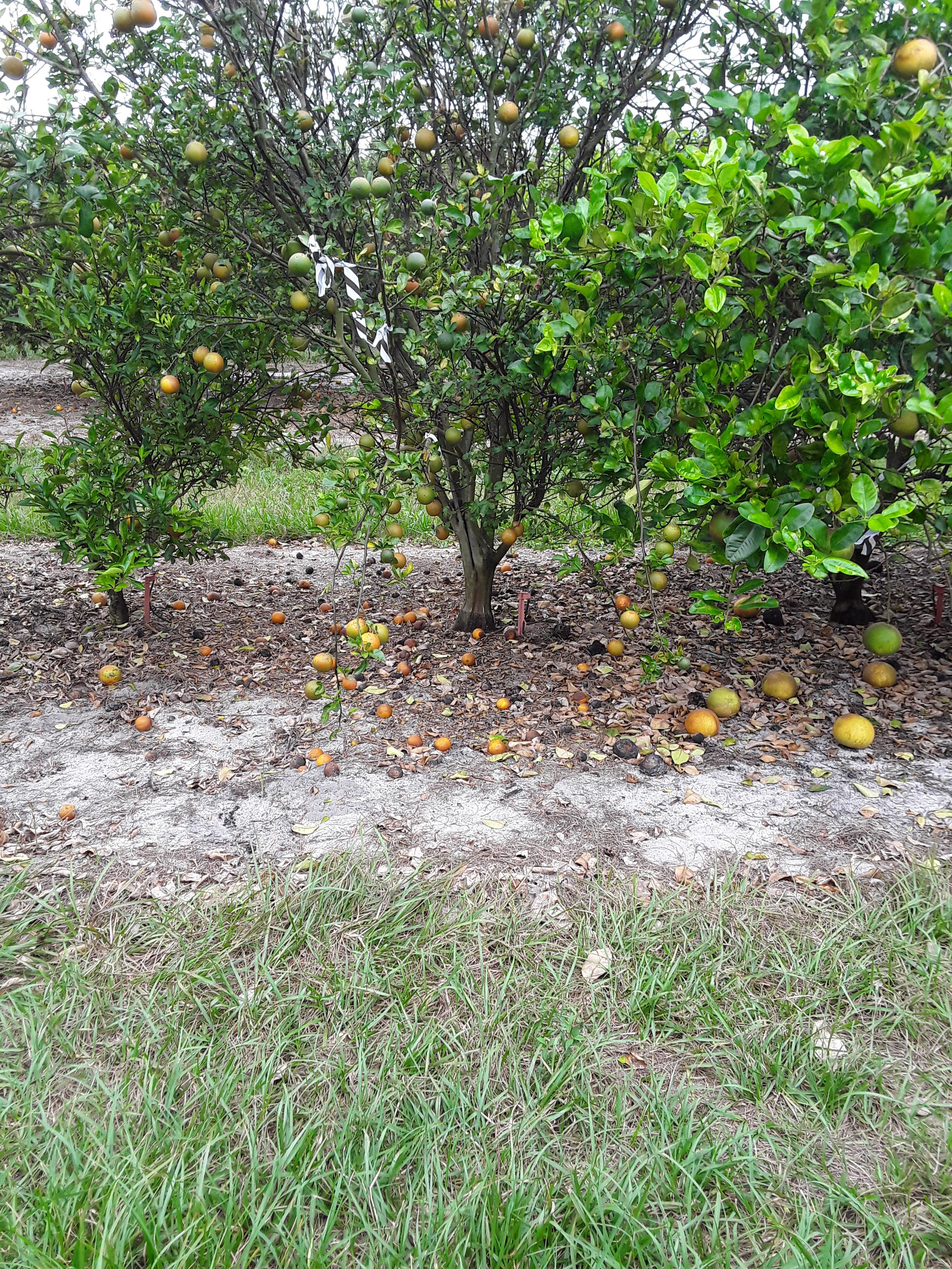fruit_on_ground: (889, 35, 942, 81), (813, 522, 859, 561), (861, 619, 905, 657), (707, 505, 744, 543), (885, 404, 924, 439), (666, 398, 702, 428), (109, 4, 138, 35), (75, 209, 105, 237), (130, 0, 158, 28), (345, 172, 372, 201), (181, 139, 210, 166), (286, 251, 315, 278), (556, 122, 583, 149), (602, 17, 628, 45), (1, 54, 28, 80), (494, 98, 521, 124), (497, 44, 525, 69), (470, 284, 499, 308), (377, 143, 403, 169), (277, 233, 303, 259), (475, 13, 501, 39), (291, 107, 316, 133), (659, 518, 684, 543), (370, 175, 395, 199), (287, 289, 312, 313), (414, 127, 438, 152), (374, 152, 398, 176), (515, 25, 539, 49), (446, 310, 471, 333), (403, 250, 428, 273), (408, 80, 434, 102), (651, 537, 677, 559), (441, 120, 466, 142), (434, 330, 457, 353), (561, 475, 584, 498), (485, 70, 507, 94), (648, 568, 670, 592), (35, 27, 59, 49), (116, 140, 138, 163), (204, 350, 227, 372), (158, 373, 181, 395), (164, 519, 188, 540), (619, 609, 641, 631), (402, 276, 425, 297), (121, 510, 144, 531), (574, 415, 595, 437), (219, 59, 240, 81), (213, 259, 235, 280), (189, 343, 210, 365), (413, 484, 435, 505), (359, 59, 381, 80), (504, 0, 534, 15), (417, 198, 439, 218), (348, 5, 371, 24), (394, 123, 414, 143), (198, 32, 218, 52), (443, 426, 463, 446), (424, 293, 445, 312), (196, 17, 217, 36), (321, 294, 340, 315), (289, 333, 310, 352), (651, 0, 686, 11), (505, 520, 524, 540), (357, 432, 377, 451), (497, 526, 517, 545), (201, 250, 220, 269), (426, 453, 445, 472), (205, 279, 225, 297), (311, 510, 331, 528), (425, 499, 445, 517), (88, 589, 109, 606), (457, 169, 476, 187), (156, 228, 175, 246), (69, 378, 87, 396), (461, 401, 480, 418), (194, 264, 212, 281), (333, 494, 351, 511), (385, 521, 403, 538), (169, 247, 188, 263), (434, 523, 451, 540), (457, 414, 475, 430), (391, 551, 407, 569), (298, 384, 314, 401), (377, 548, 394, 564), (384, 498, 401, 514), (675, 655, 692, 671), (345, 465, 361, 481), (167, 226, 183, 241), (314, 454, 327, 467), (365, 539, 377, 550)
fruit_on_tree: (830, 712, 876, 751), (861, 656, 900, 690), (760, 668, 799, 701), (706, 685, 742, 718), (683, 706, 720, 738), (730, 593, 762, 618), (96, 662, 124, 687), (760, 605, 788, 628), (637, 753, 666, 775), (612, 737, 639, 760), (310, 649, 337, 672), (344, 617, 366, 640), (303, 678, 325, 700), (357, 630, 380, 650), (605, 636, 626, 657), (133, 712, 154, 732), (371, 621, 390, 643), (613, 592, 633, 612), (487, 736, 508, 755), (58, 801, 77, 820), (586, 639, 606, 657), (320, 760, 340, 778), (314, 750, 333, 768), (433, 734, 452, 752), (567, 689, 588, 705), (308, 748, 327, 765), (494, 694, 513, 711), (89, 590, 109, 606), (339, 673, 357, 690), (375, 702, 393, 719), (460, 651, 478, 667), (406, 732, 424, 748), (328, 620, 345, 636), (289, 756, 307, 771), (573, 660, 591, 675), (395, 660, 411, 676), (503, 626, 520, 641), (411, 618, 428, 633), (385, 766, 402, 781), (574, 698, 590, 713), (270, 609, 286, 624), (417, 604, 432, 619), (197, 643, 213, 657), (402, 609, 418, 623), (392, 610, 407, 624), (404, 635, 418, 649), (231, 575, 246, 588), (298, 576, 313, 589), (318, 600, 333, 613), (206, 589, 222, 601), (497, 561, 513, 573), (471, 626, 485, 639), (172, 598, 187, 610), (191, 628, 206, 640), (380, 566, 393, 579), (359, 597, 372, 609), (8, 404, 20, 415), (53, 402, 65, 412), (266, 537, 278, 547), (268, 585, 280, 594), (304, 566, 316, 574), (296, 552, 304, 561)
